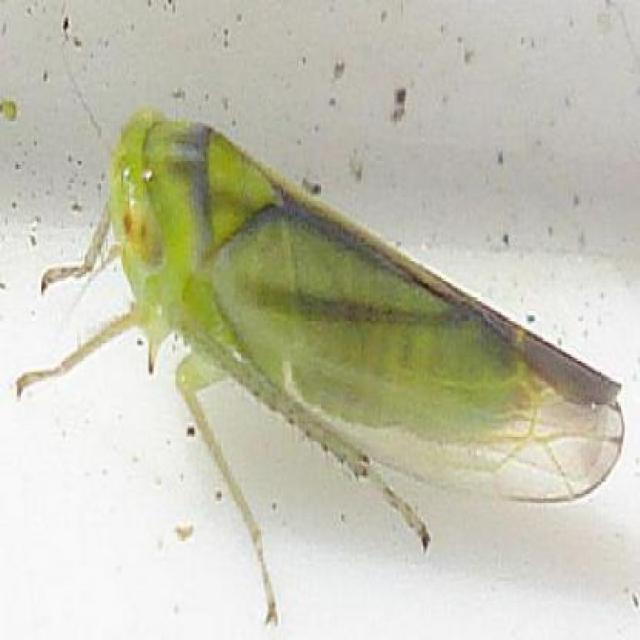green-leafhopper: (10, 104, 627, 625)
